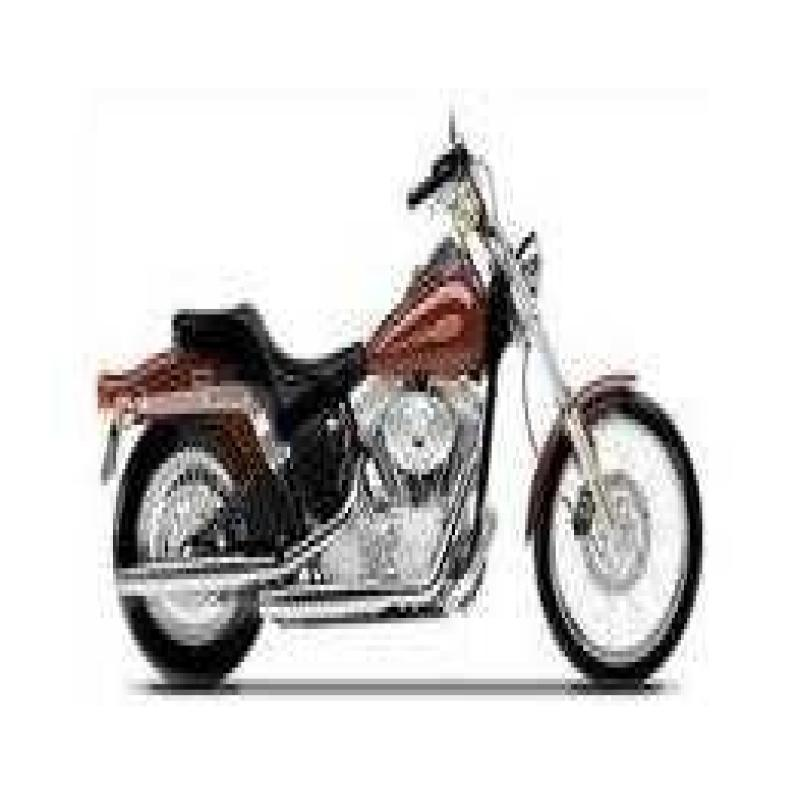bike: (85, 77, 695, 712)
